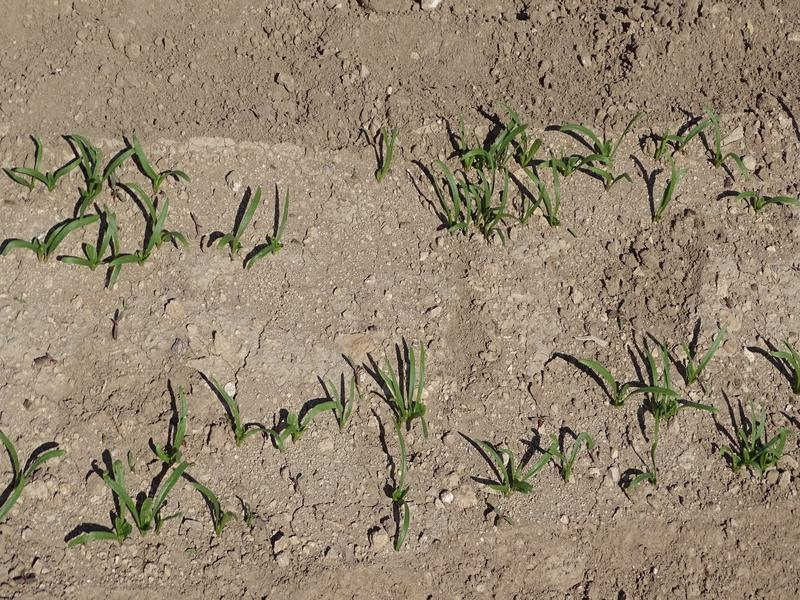Espinaca: (9, 143, 189, 275), (435, 116, 629, 235), (86, 400, 200, 541), (650, 119, 788, 213), (209, 370, 326, 448), (466, 423, 597, 492), (585, 346, 699, 409), (336, 353, 433, 424), (221, 190, 297, 270), (1, 430, 69, 511), (728, 406, 786, 477), (388, 434, 419, 544), (772, 346, 800, 388)
